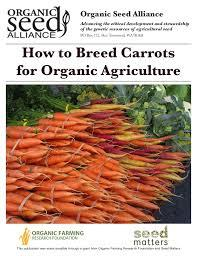Organic: (12, 90, 194, 223)
